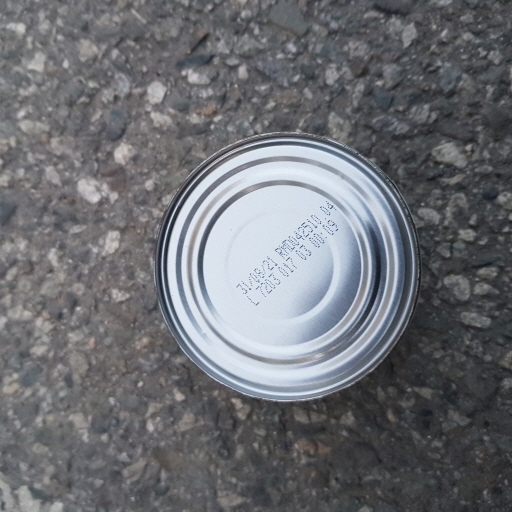Metal_1: (154, 130, 424, 404)
